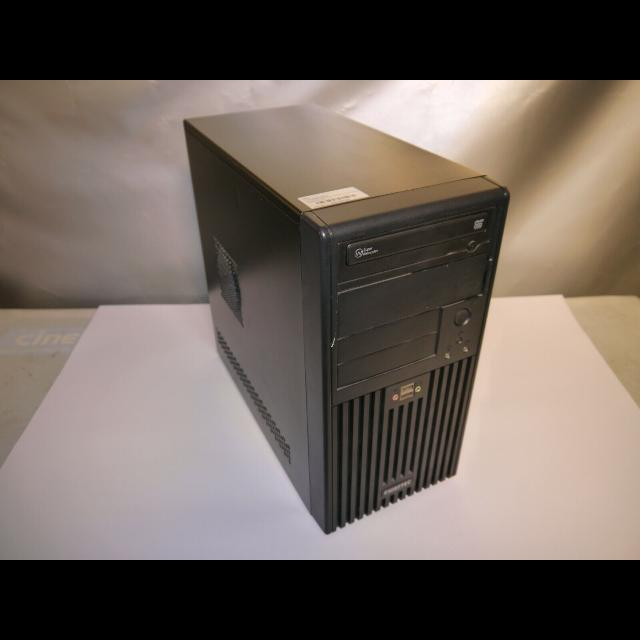Desktop-PC: (182, 103, 510, 520)
